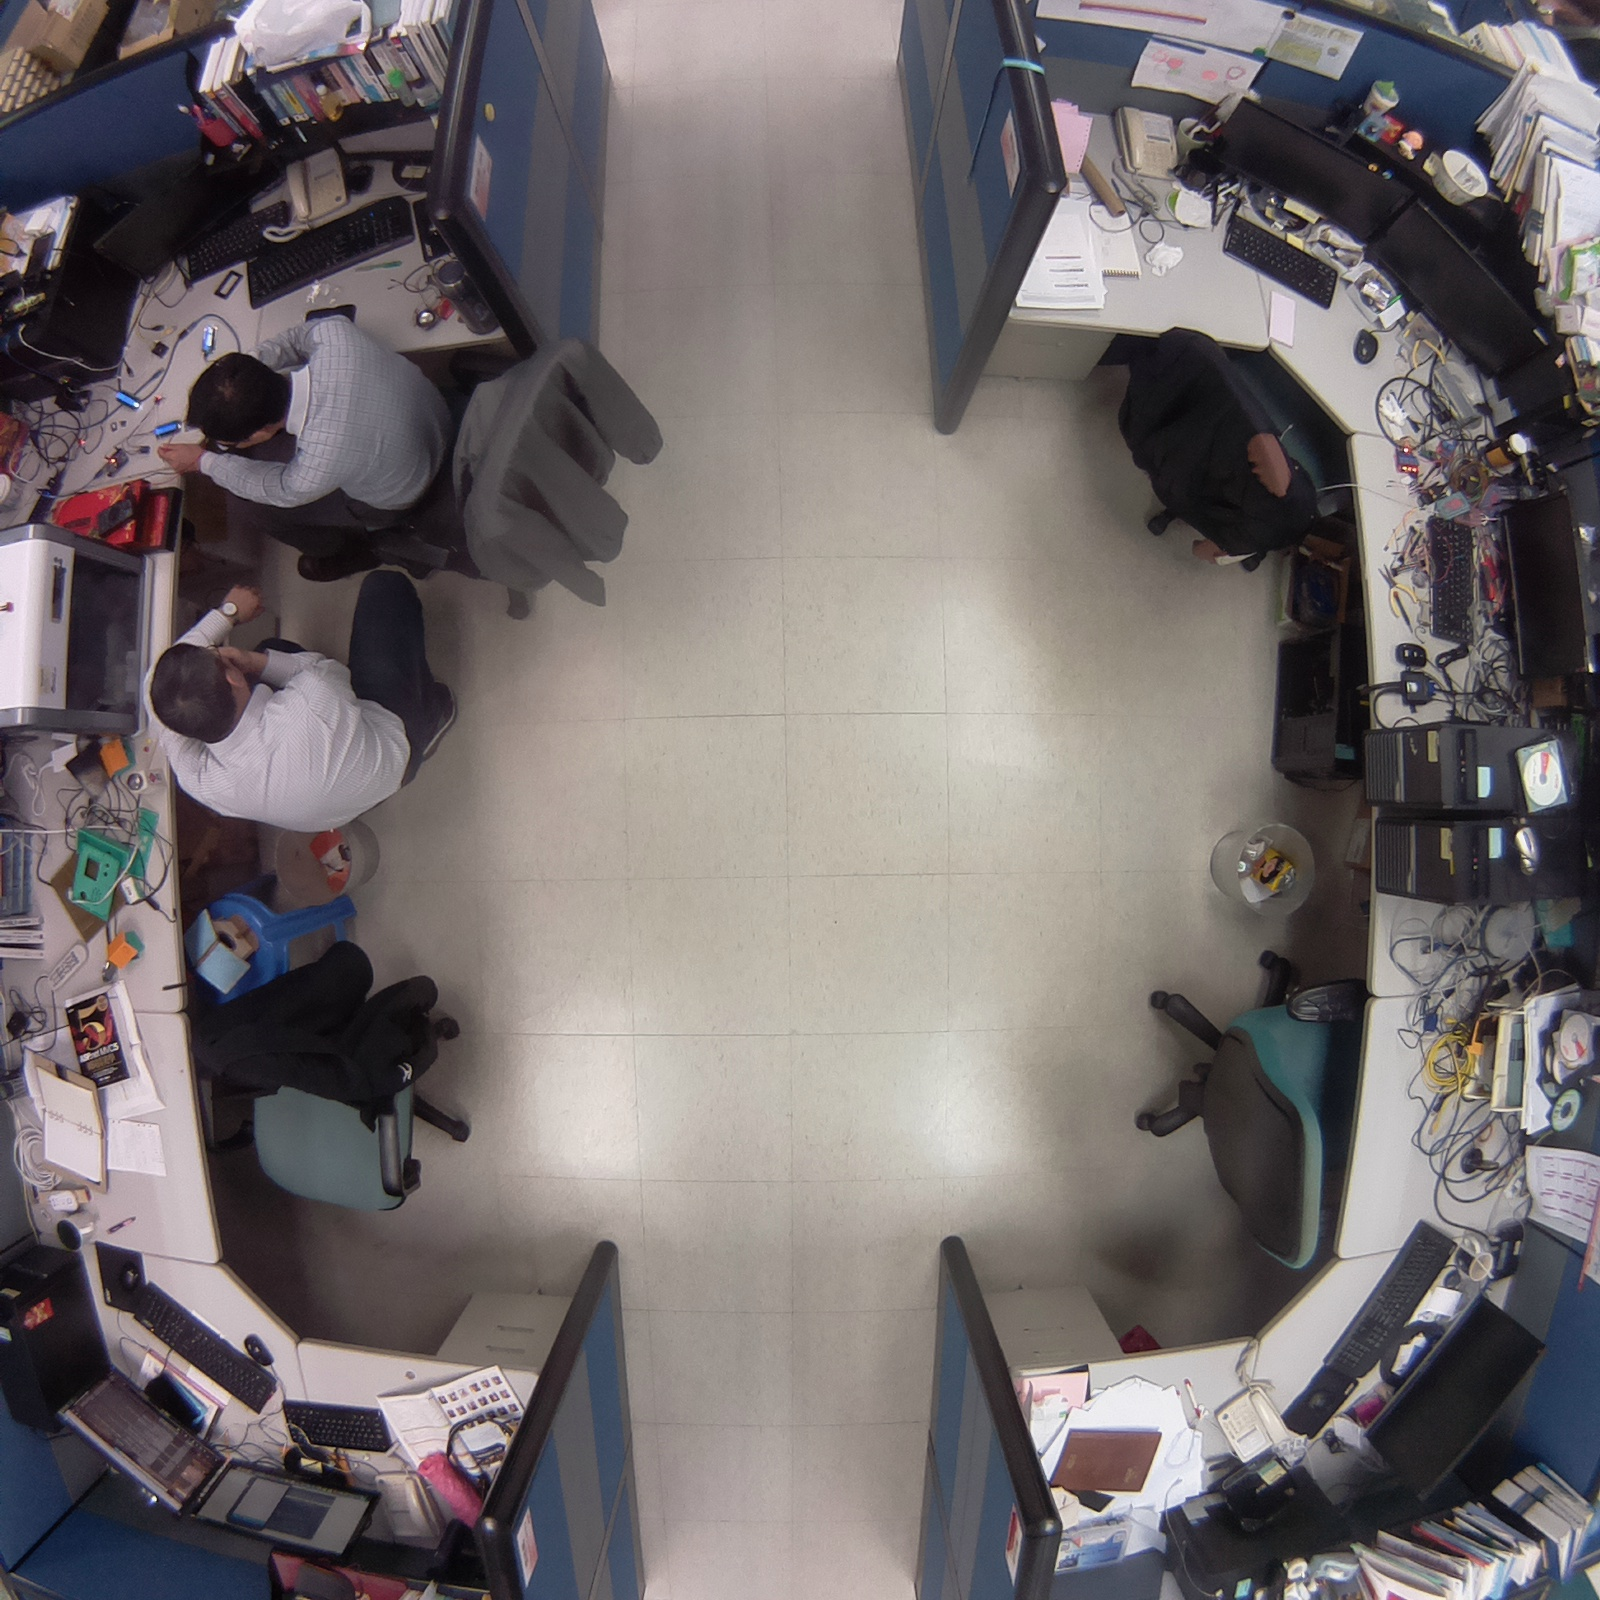chair: (183, 922, 494, 1242), (1109, 917, 1370, 1288), (1109, 304, 1360, 588)
head: (174, 344, 291, 461), (149, 634, 255, 748)
sitting: (167, 283, 678, 645)
standing: (133, 563, 483, 850)
